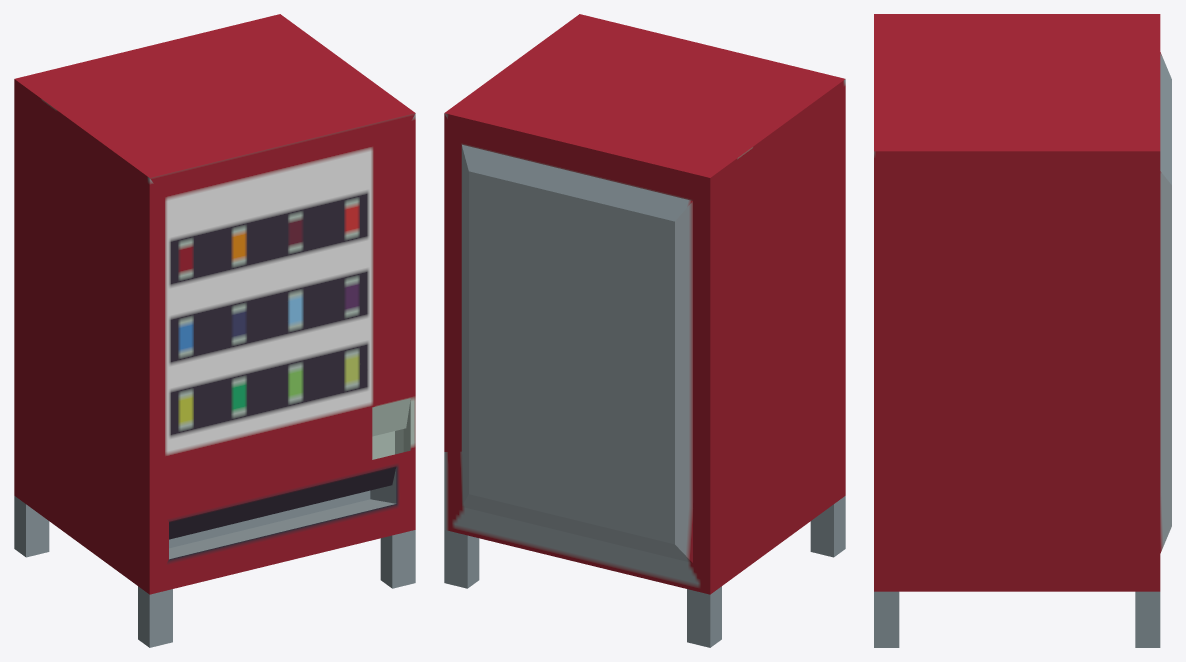
File: VendingMachine.fbx
The picture shows the model from 3 angles, left to right: view 1: azimuth 30°, elevation 25°; view 2: azimuth 150°, elevation 25°; view 3: azimuth 270°, elevation 25°; orthographic projection. The views are drawn at different scales.
Parts seen in each view (by area): view 1: VendingMachin_With_Coinreturn; view 2: VendingMachin_With_Coinreturn; view 3: VendingMachin_With_Coinreturn.
Boxes of the visible parts, x1=… form: VendingMachin_With_Coinreturn: x1=14, y1=14, x2=415, y2=647; VendingMachin_With_Coinreturn: x1=444, y1=14, x2=845, y2=647; VendingMachin_With_Coinreturn: x1=874, y1=14, x2=1171, y2=647.
Bounding box in the file's own units: 123 × 208 × 113.
